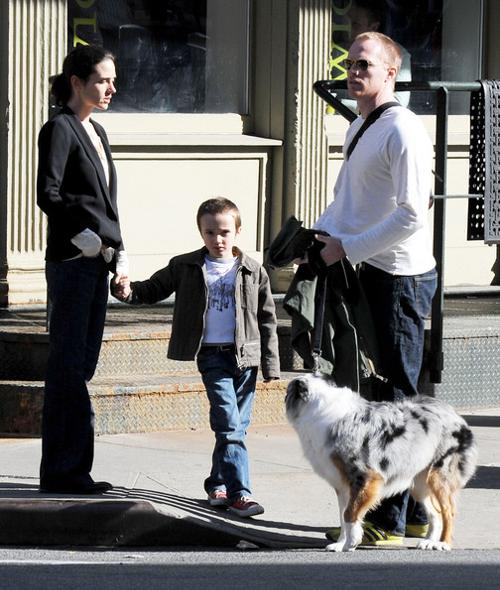person: (293, 31, 438, 548)
